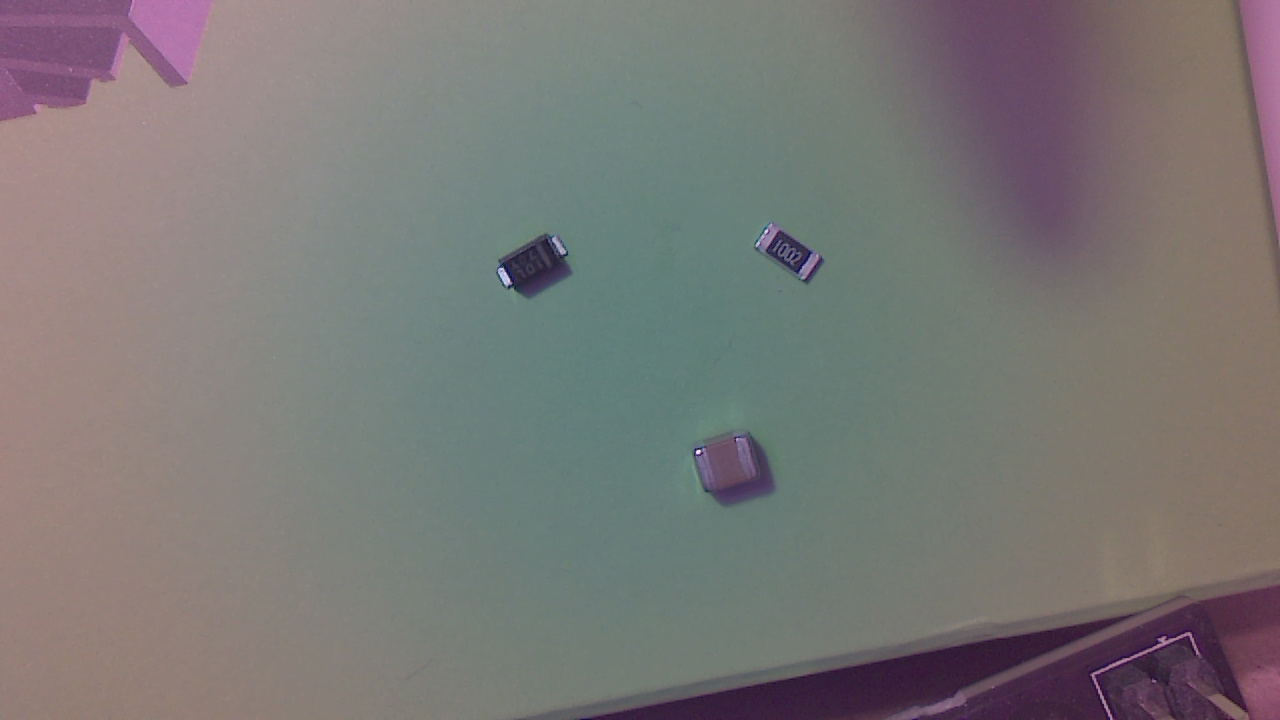Condensator: (695, 436, 762, 500)
Diode: (498, 236, 577, 299)
Resistor: (757, 229, 830, 290)
